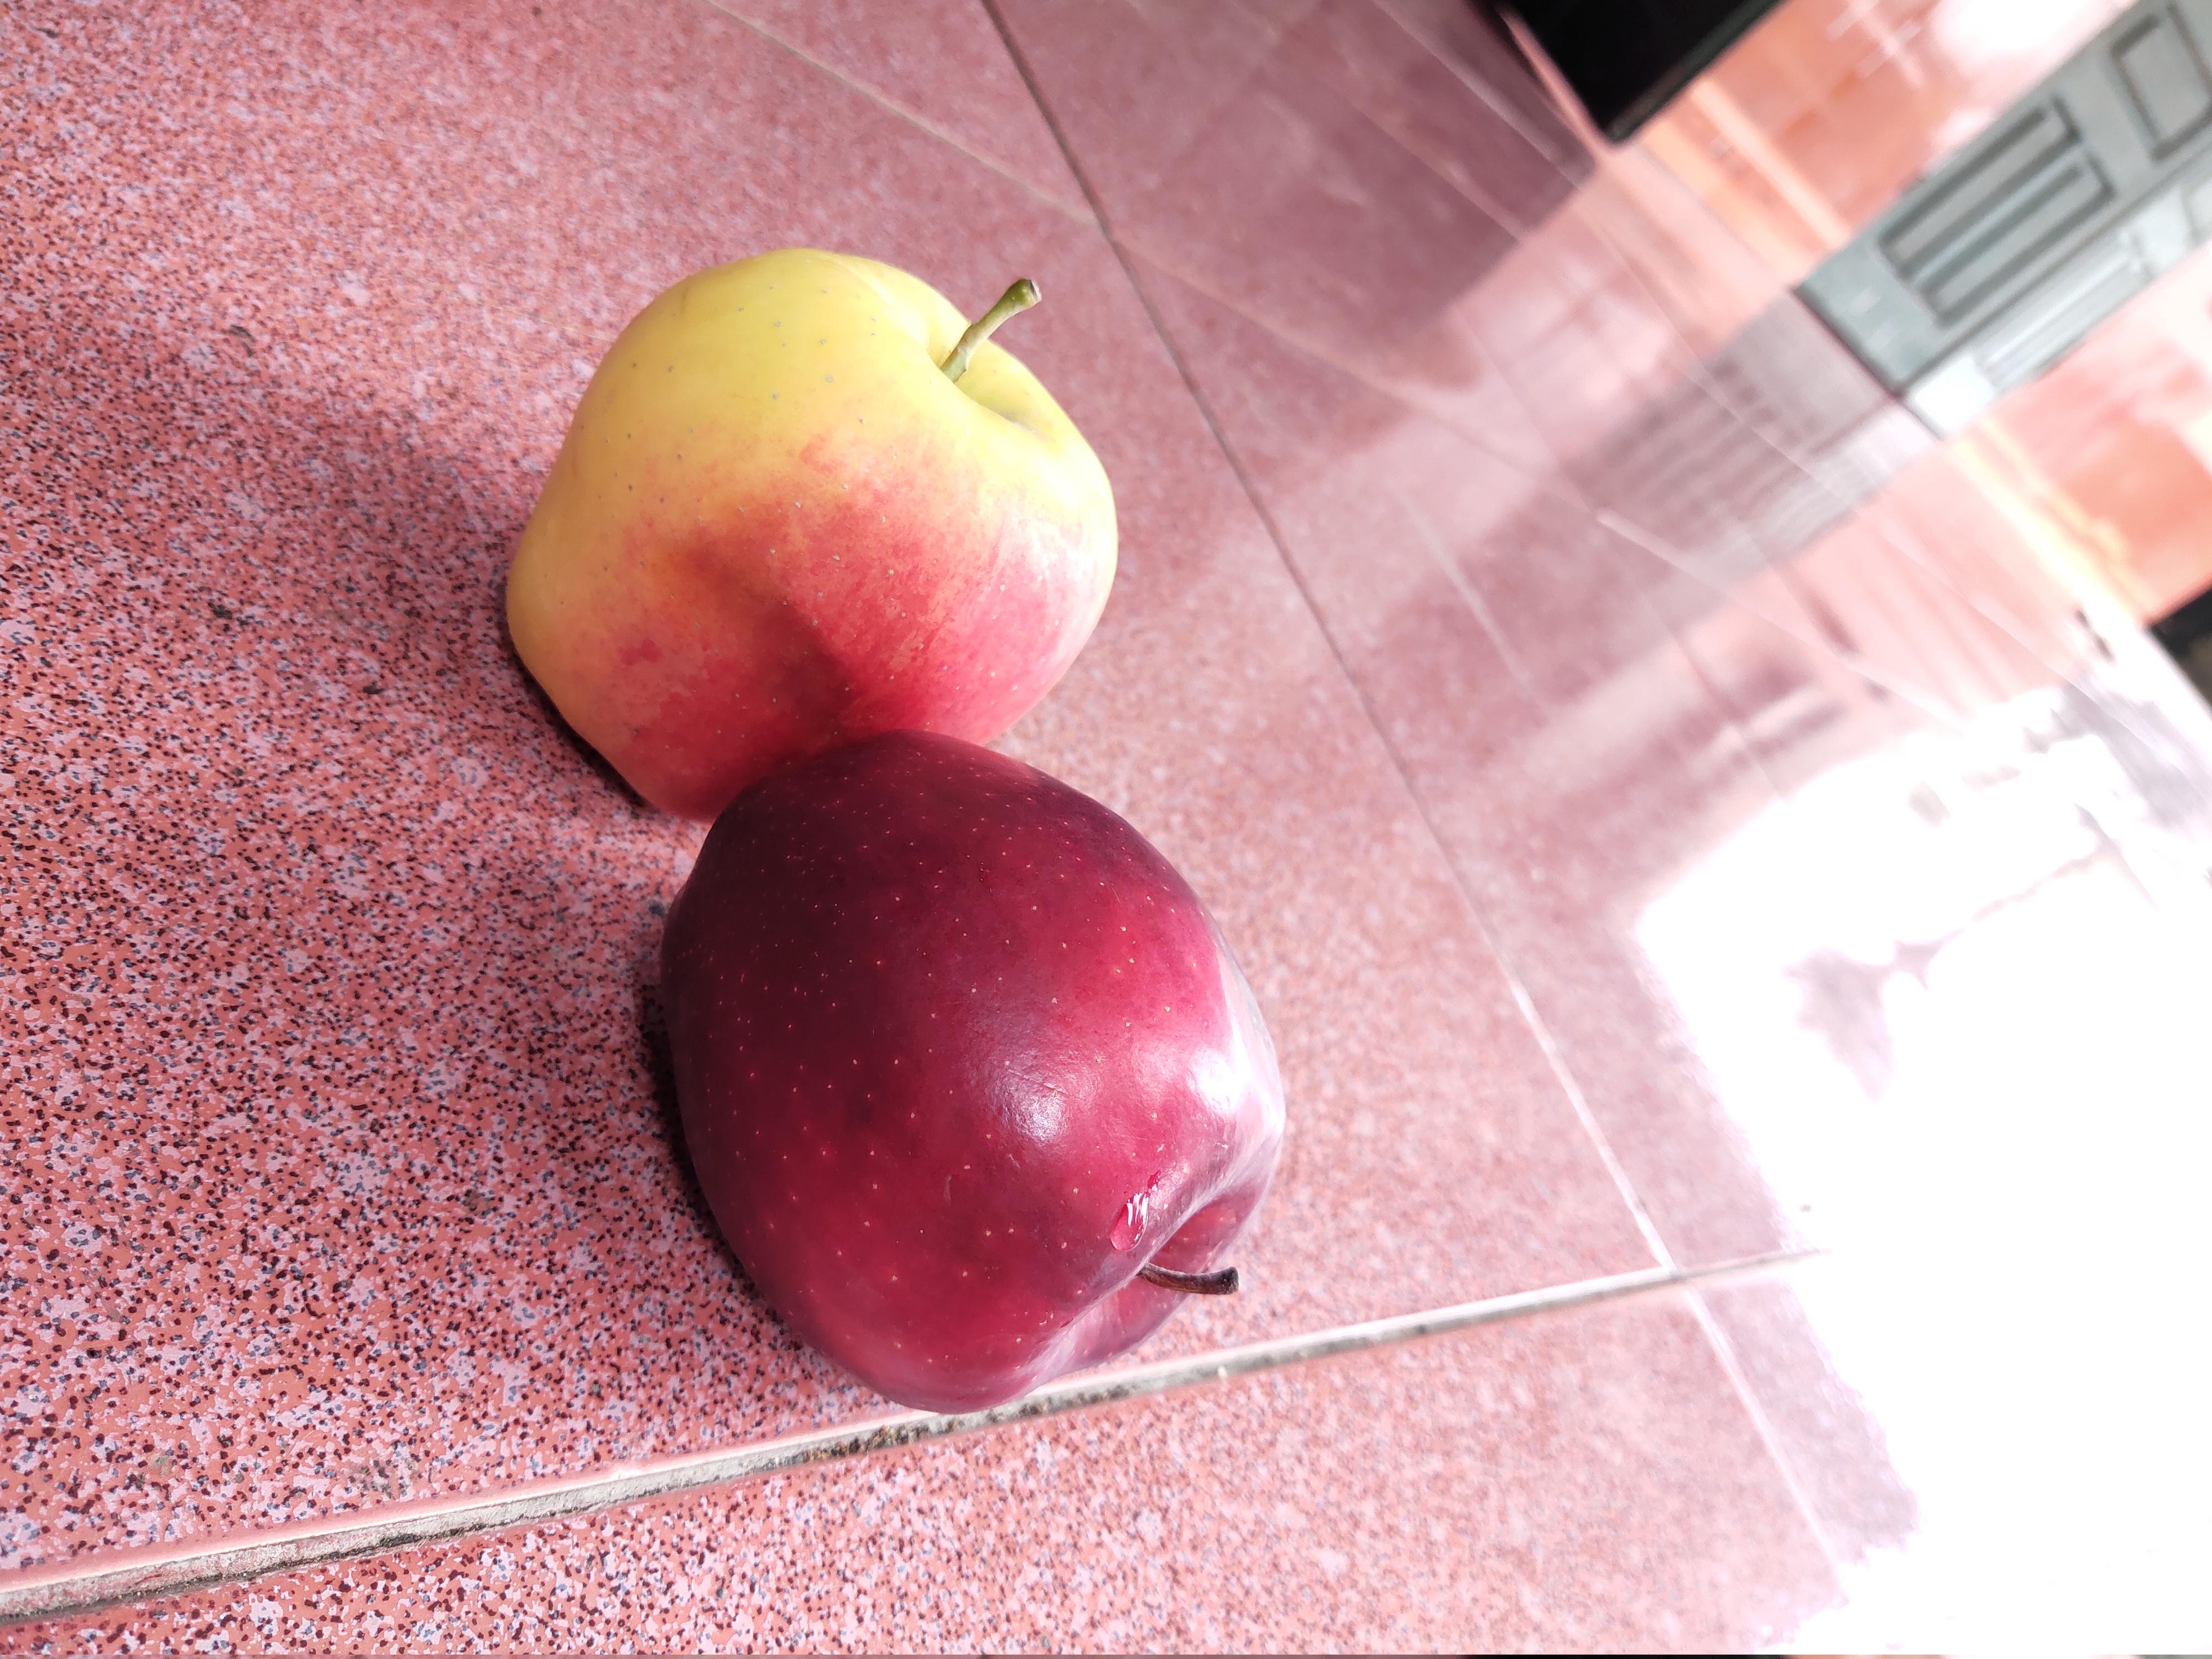apple: (646, 728, 1299, 1417), (496, 244, 1130, 802)
